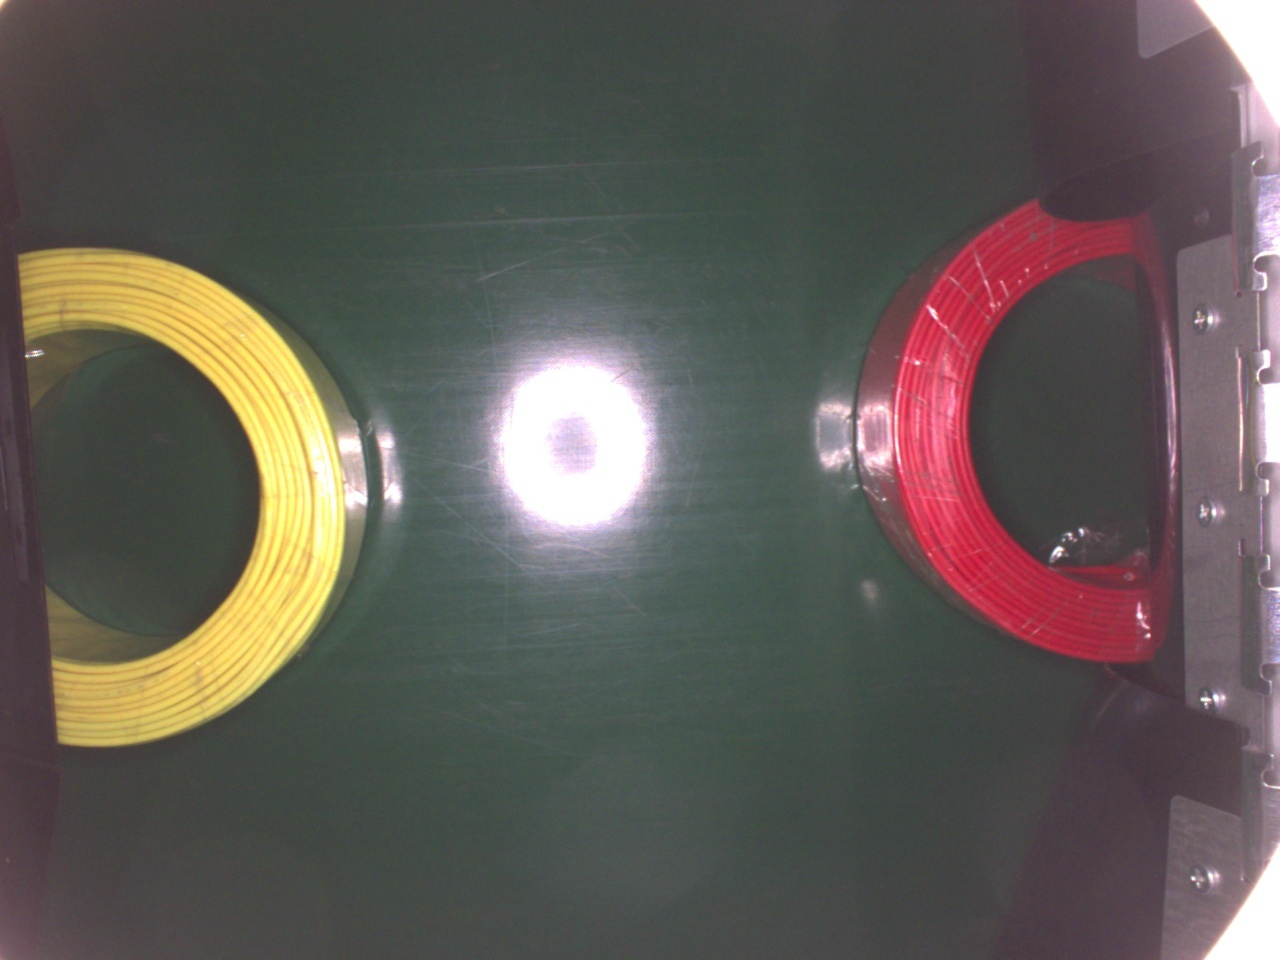red: (852, 196, 1177, 666)
yellow: (16, 242, 372, 746)
